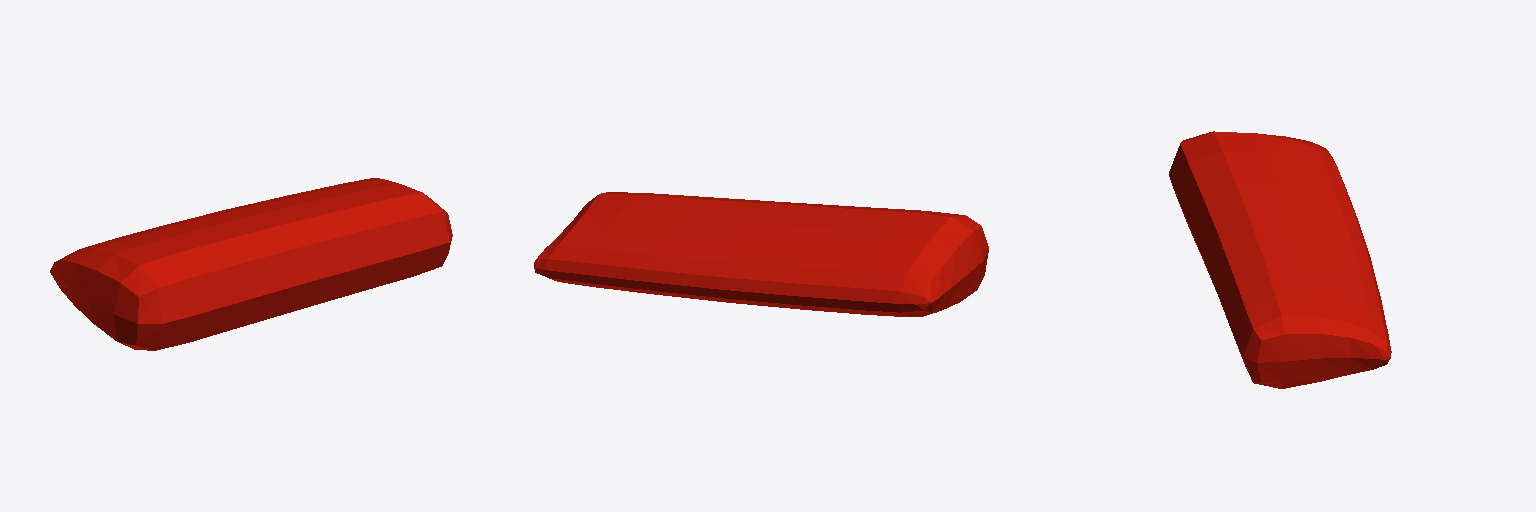
File: flap.obj
3 views of the same model, side by side, from view 1: azimuth 30°, elevation 25°; view 2: azimuth 150°, elevation 25°; view 3: azimuth 270°, elevation 25° (orthographic).
Parts seen in each view (by area): view 1: Flap.001_Sphere.005; view 2: Flap.001_Sphere.005; view 3: Flap.001_Sphere.005.
Boxes of the visible parts, box(x1,y1,x2,y2) form: Flap.001_Sphere.005: box(50, 178, 452, 350); Flap.001_Sphere.005: box(534, 192, 988, 316); Flap.001_Sphere.005: box(1169, 131, 1391, 388).
Bounding box in the file's own units: 1.52 × 0.4038 × 0.794.